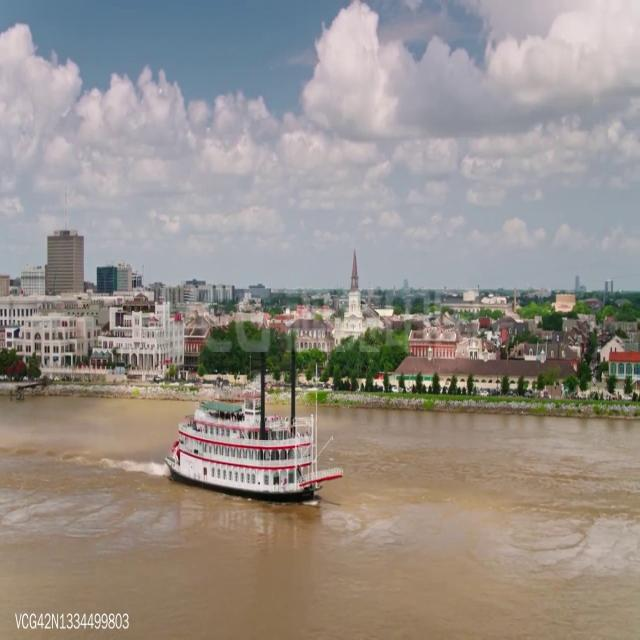passenger ship: (165, 390, 340, 506)
